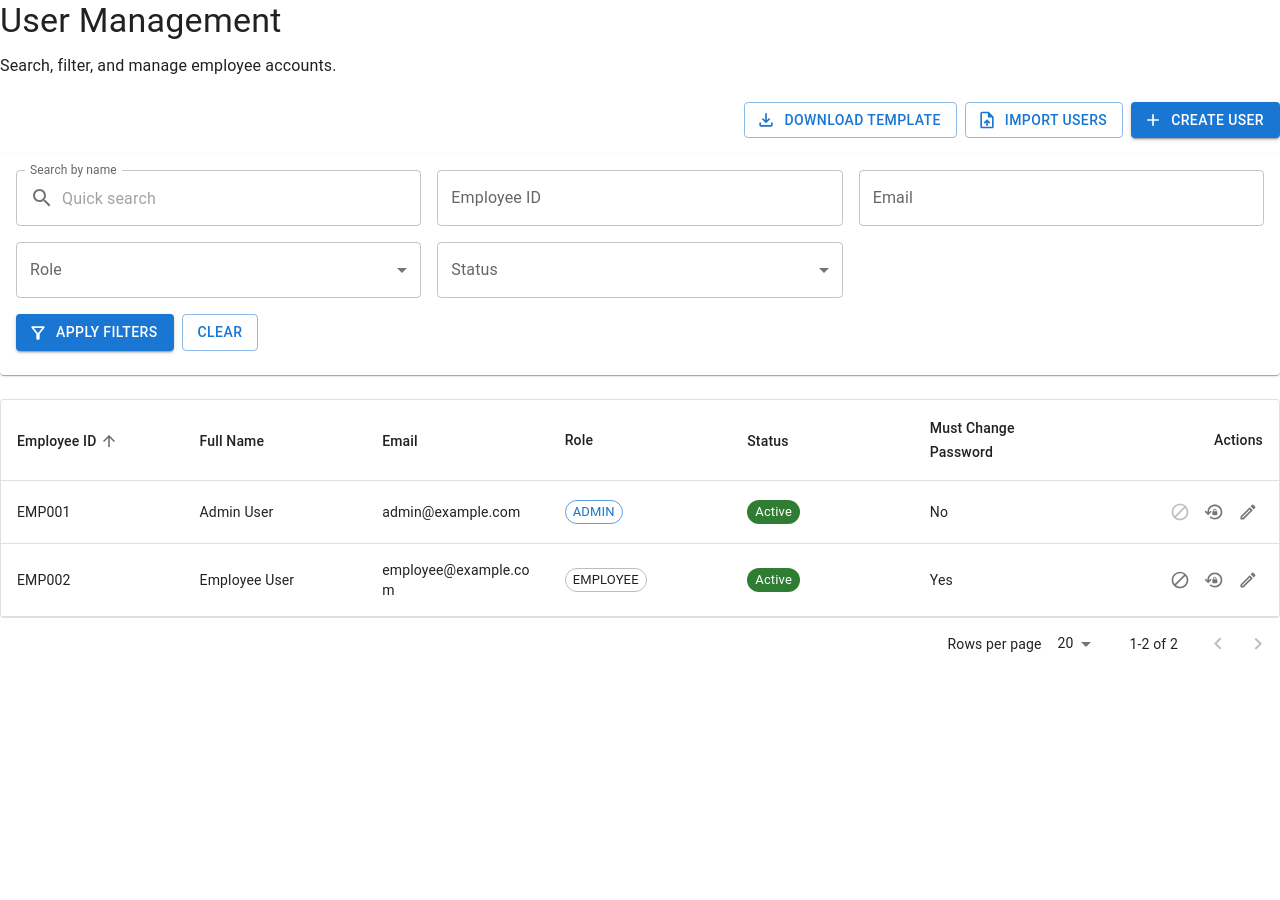
Test: UserListPage › opens edit dialog from row action
Check: the text "Admin User" is shown, box [200,504,274,520]
Click the button named "Edit user Admin User".
click(1248, 512)  # box [1233,497,1263,527]
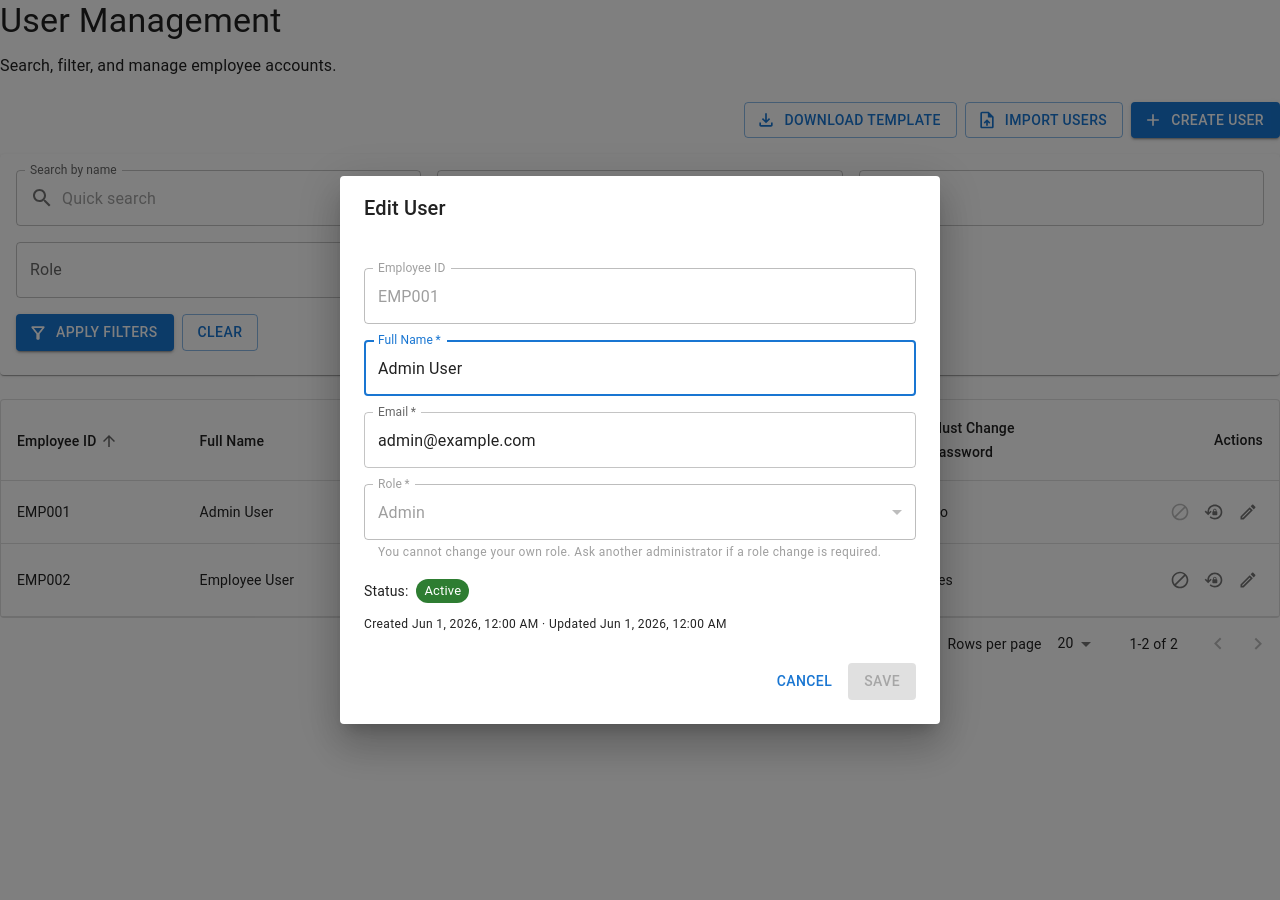
Check: the heading "Edit User" is shown, box [364,196,446,220]
